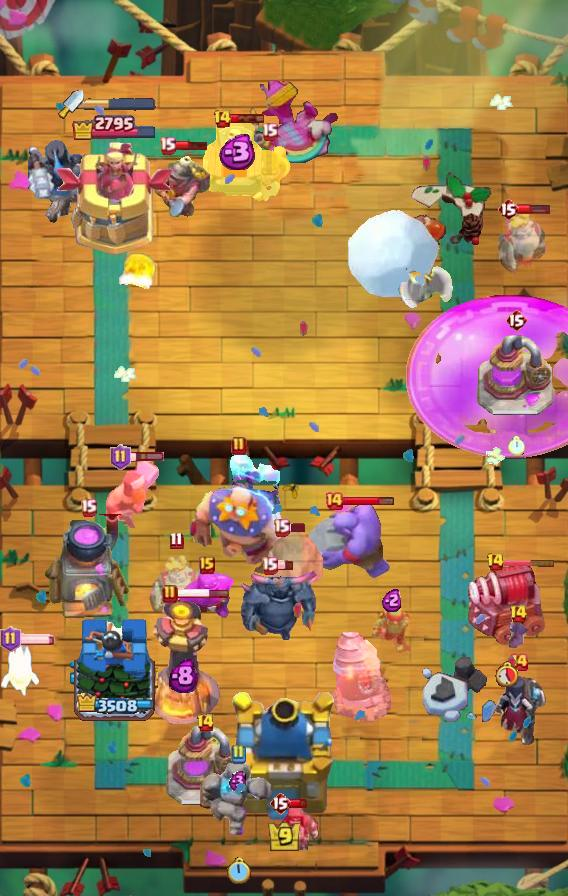archer-queen: (304, 500, 392, 580)
bandit: (151, 148, 213, 220)
bar: (54, 142, 173, 256)
barbarian-barrel: (505, 616, 531, 650)
bat: (1, 639, 41, 697)
bowler: (270, 806, 320, 850)
electro-dragon: (144, 598, 222, 724)
electro-spirit: (215, 134, 257, 170), (170, 658, 199, 693), (382, 588, 403, 612), (229, 770, 247, 792)
elixir: (225, 857, 250, 886), (494, 661, 517, 687), (508, 436, 525, 456)
elixir-golem-mid: (200, 121, 270, 207)
emote: (176, 588, 230, 599), (341, 497, 394, 508), (502, 557, 556, 567), (18, 633, 56, 645), (127, 451, 164, 463), (517, 203, 551, 215), (173, 140, 209, 151), (231, 112, 266, 123), (287, 523, 307, 534), (274, 560, 294, 571), (288, 798, 308, 809)
giant-snowball: (372, 601, 412, 655)
goblin-giant: (247, 146, 291, 204)
golem: (464, 559, 548, 645)
golemite: (236, 566, 322, 642)
hunter: (43, 514, 133, 622)
inferno-dragon: (25, 137, 85, 227)
king-tower: (227, 692, 341, 826)
king-tower-bar: (84, 97, 156, 111)
knight-evolution: (406, 294, 568, 458)
little-prince: (186, 448, 292, 576)
magic-archer: (331, 631, 391, 723)
mighty-miner: (104, 456, 162, 532)
mortar-evolution: (266, 524, 324, 592), (148, 553, 204, 619), (496, 209, 548, 277)
pekka: (477, 335, 555, 417), (166, 725, 244, 807)
queen-tower: (70, 616, 158, 731)
rascal-boy: (490, 673, 548, 745)
royal-giant: (398, 253, 454, 311)
selected: (70, 112, 157, 140), (74, 693, 154, 715)
text: (110, 444, 131, 470), (497, 197, 519, 221), (505, 308, 527, 332), (269, 791, 291, 815), (0, 626, 20, 652), (212, 109, 232, 129), (324, 491, 344, 511), (509, 652, 529, 672), (196, 713, 216, 733), (486, 552, 505, 572), (509, 604, 528, 624), (261, 122, 279, 141), (273, 519, 291, 538), (261, 556, 279, 575), (160, 136, 177, 155), (80, 498, 97, 517), (231, 436, 247, 456), (162, 584, 178, 604), (230, 744, 246, 764), (199, 556, 215, 574), (169, 531, 183, 550)
tornado: (175, 572, 239, 626)
valkyrie: (111, 249, 163, 293)
valkyrie-evolution: (200, 763, 276, 841)
wall-breaker: (346, 208, 440, 300)
